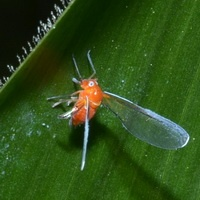insect: (47, 50, 188, 169)
